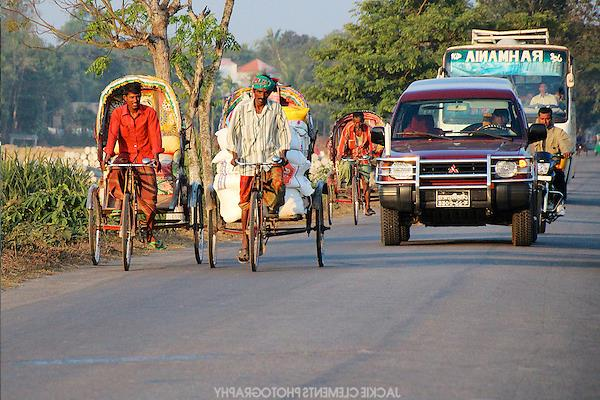Rickshaw: (201, 86, 334, 268), (91, 78, 203, 267), (324, 107, 384, 227)
